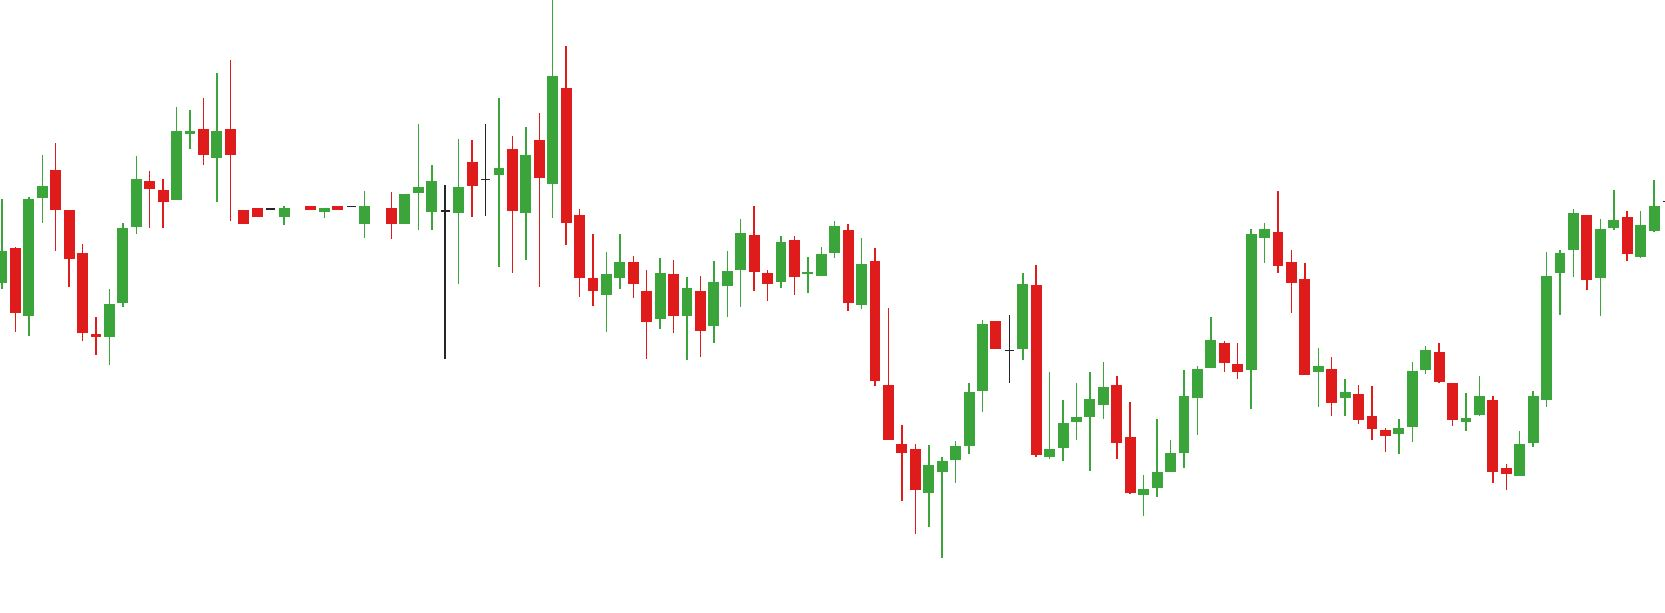buy: (10, 217, 116, 365), (1380, 384, 1526, 490)
sell: (1012, 191, 1297, 347), (611, 206, 763, 320)
